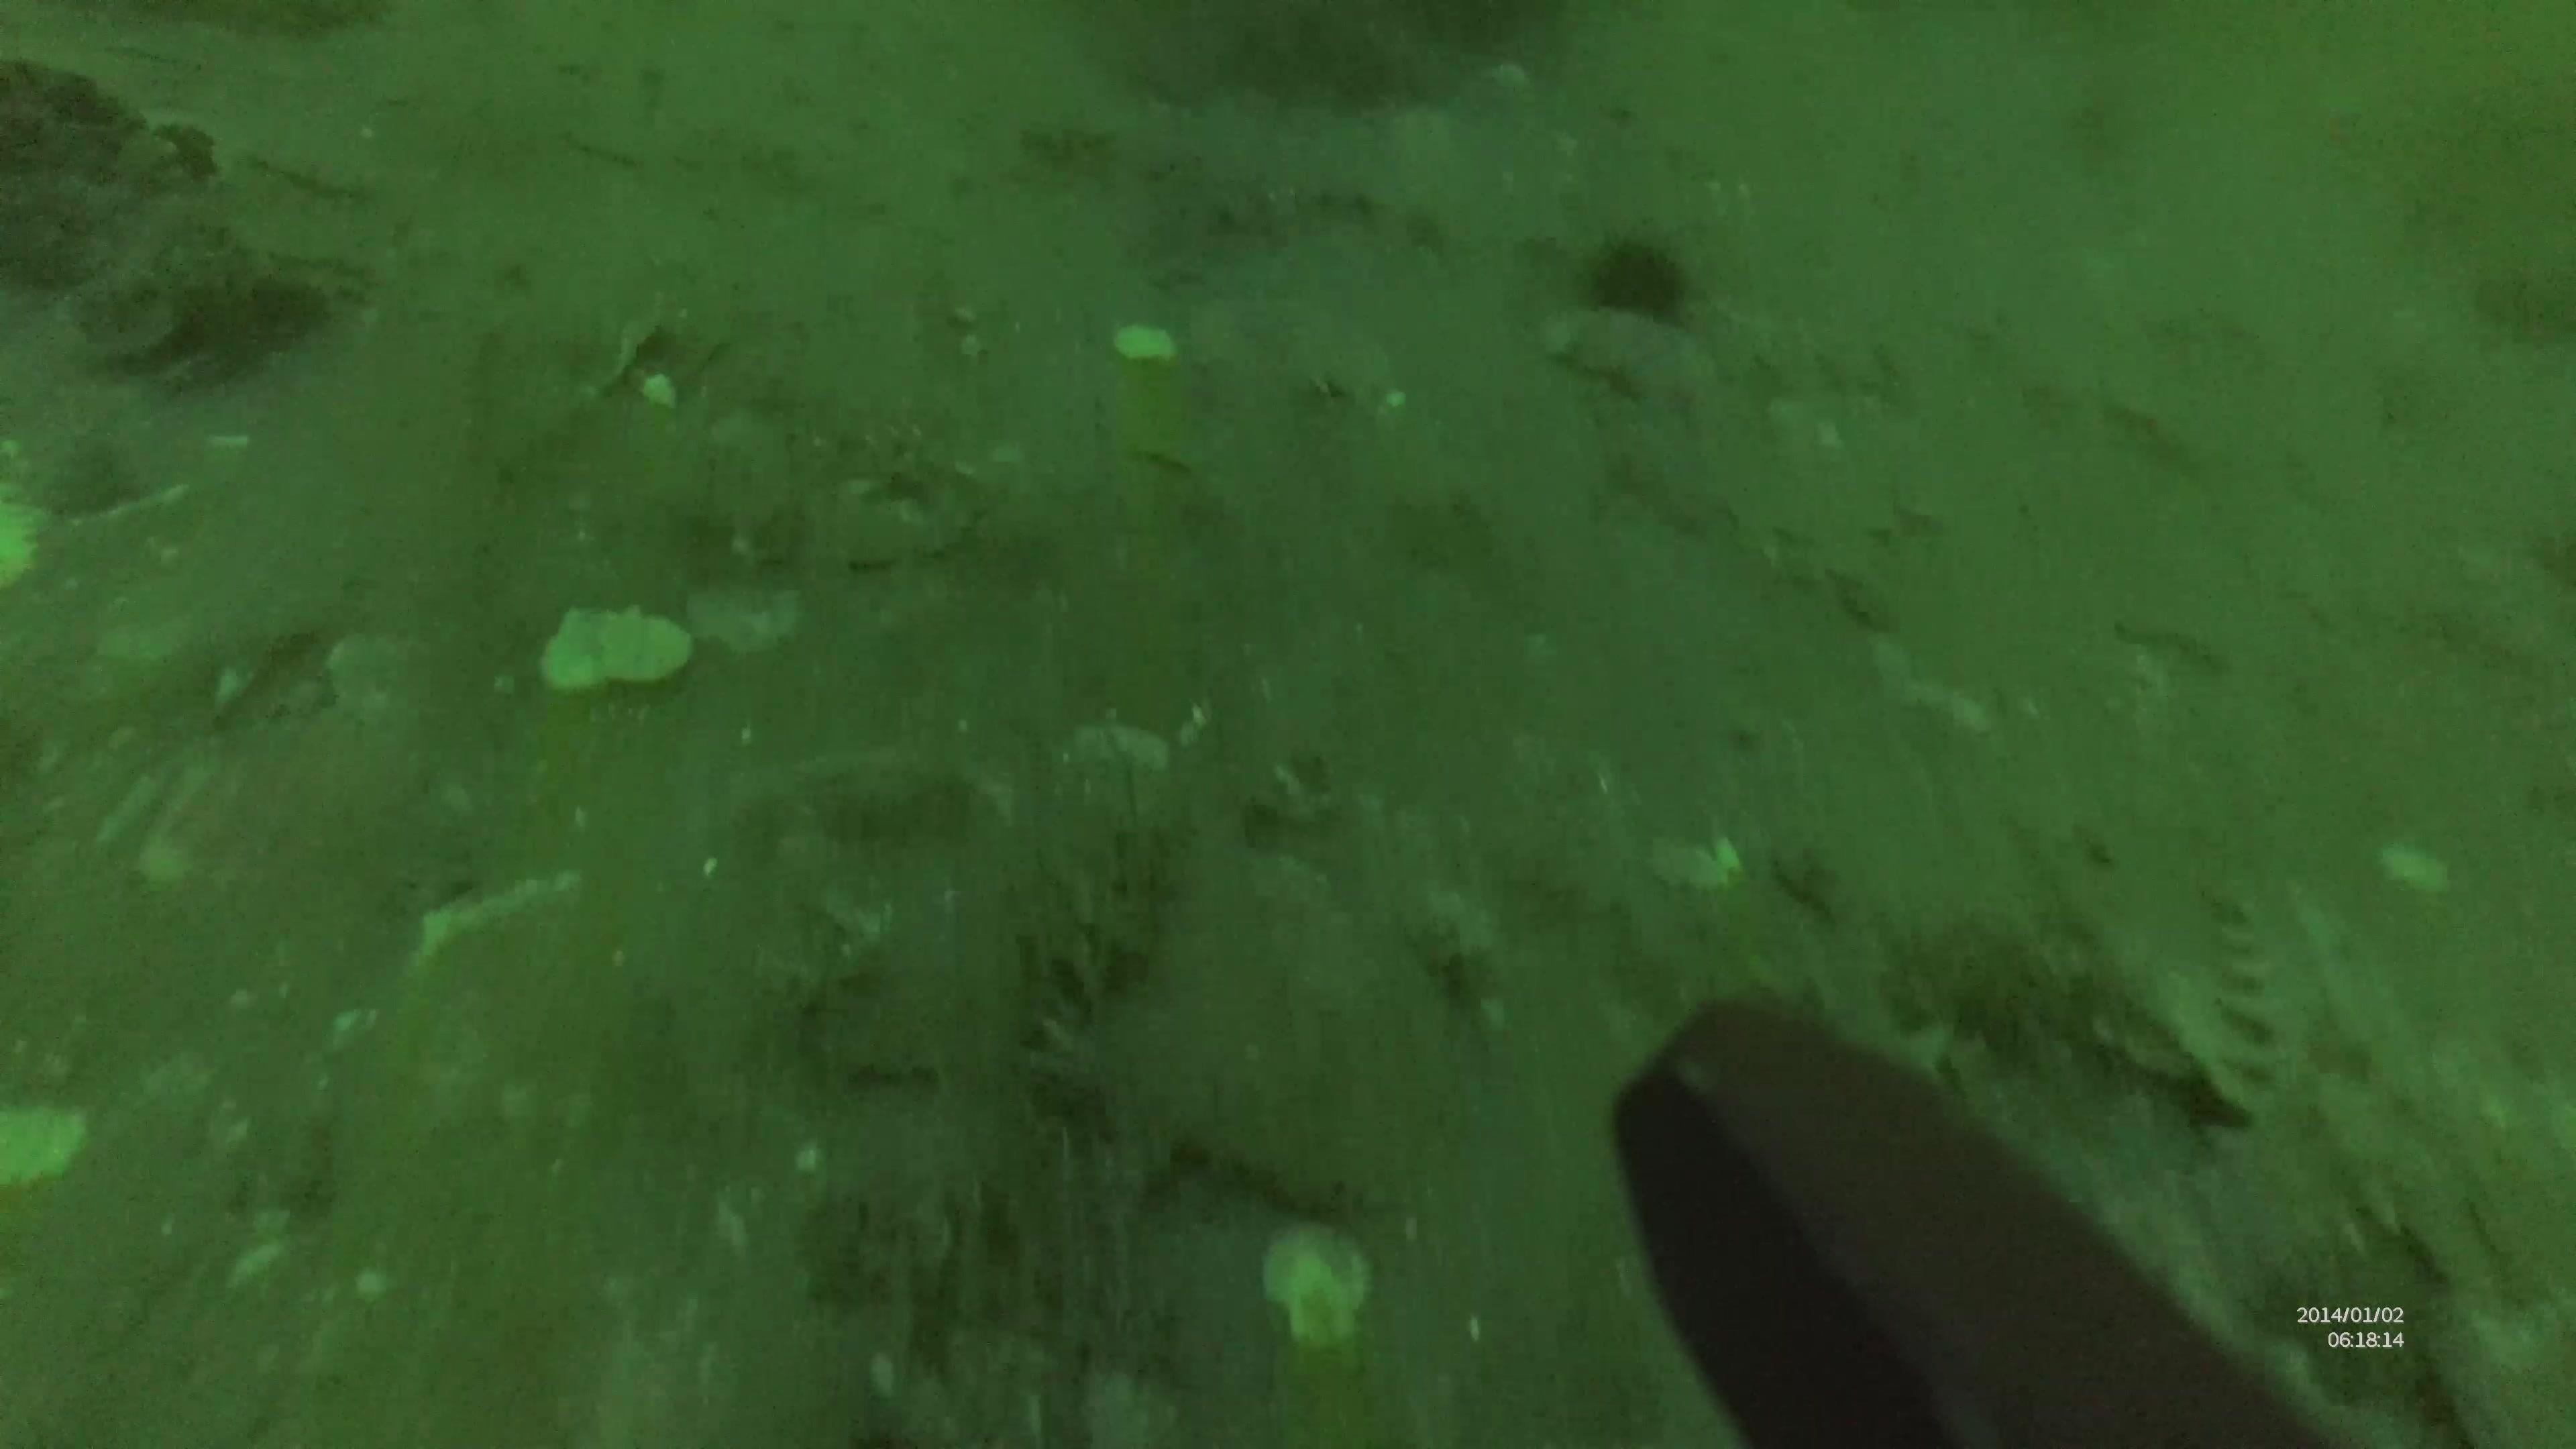echinus: (1575, 226, 1700, 331)
holothurian: (2197, 878, 2576, 1431), (2144, 1024, 2571, 1283)
